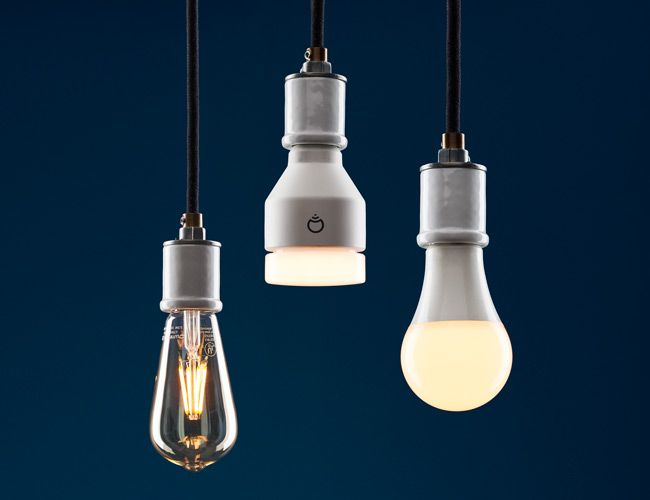bulb: (394, 229, 524, 425), (136, 291, 253, 489), (259, 136, 382, 292)
